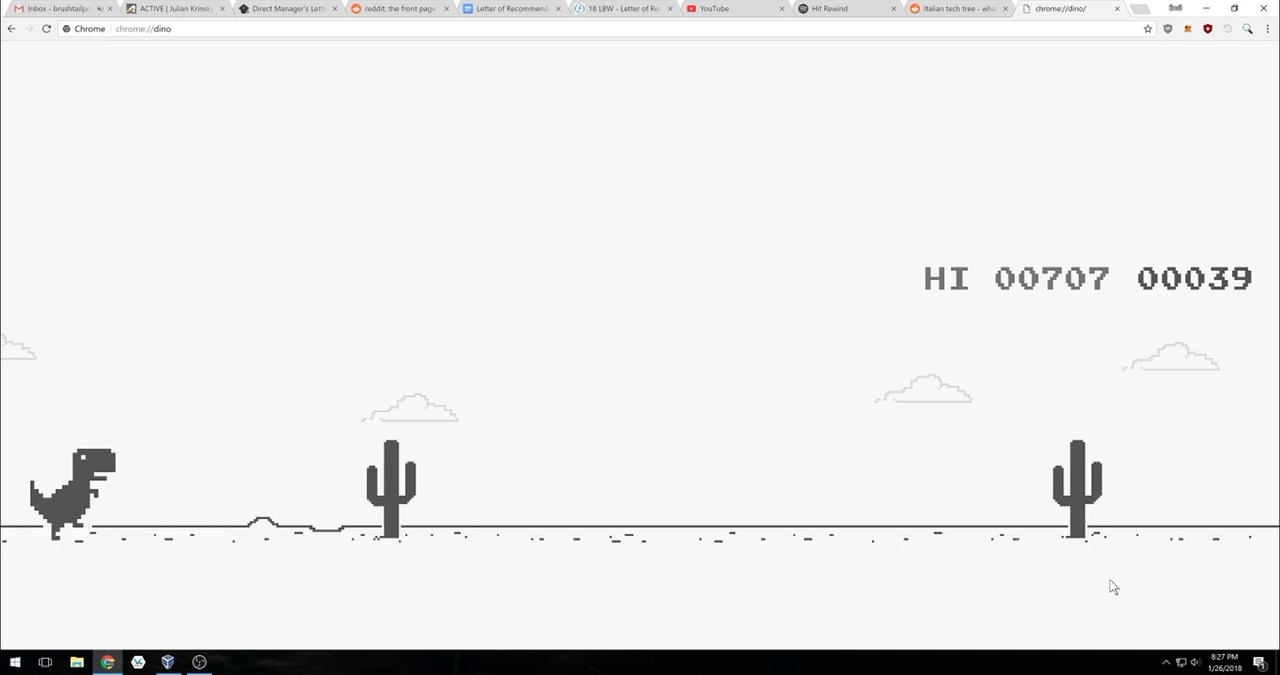cactus: (1047, 436, 1105, 543), (366, 438, 417, 541)
dinosaur: (25, 449, 119, 543)
